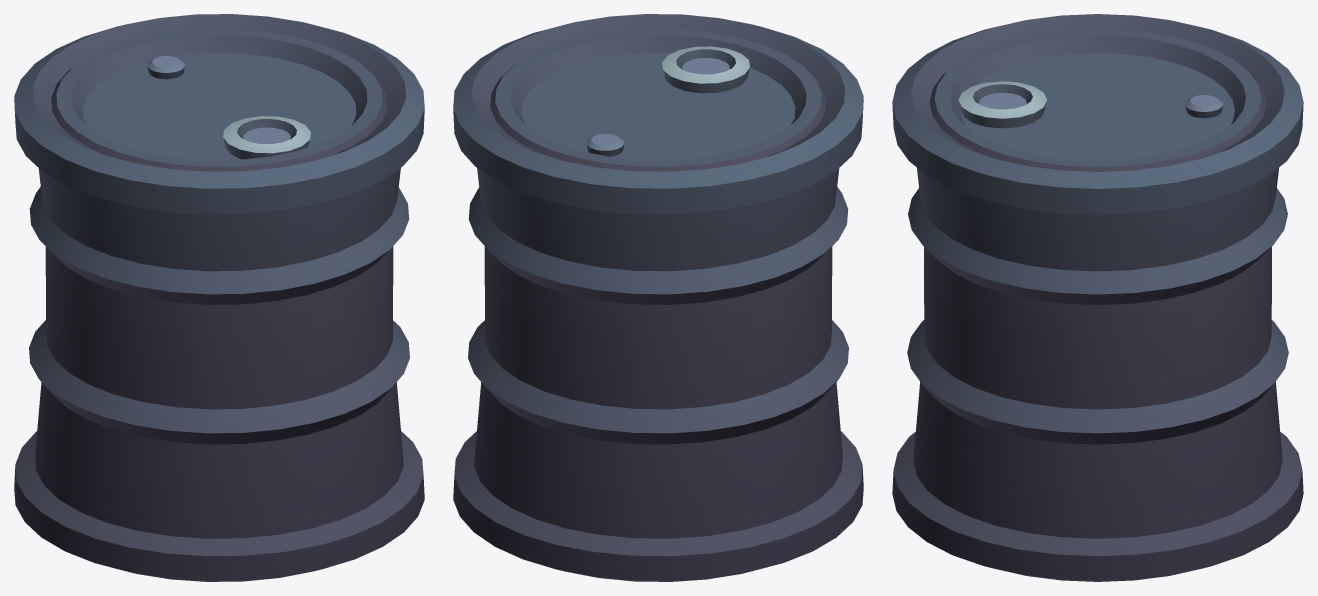
Rendered from fuel_d.fbx.
3 renders of one model, left to right at view 1: azimuth 30°, elevation 25°; view 2: azimuth 150°, elevation 25°; view 3: azimuth 270°, elevation 25°, orthographic.
Parts seen in each view (by area): view 1: fuel_tank4; view 2: fuel_tank4; view 3: fuel_tank4.
Part boxes in pixels (x1,y1,x2,y2): fuel_tank4: (14, 14, 424, 581); fuel_tank4: (453, 14, 863, 581); fuel_tank4: (892, 14, 1303, 581).
Bounding box in the file's own units: 72.79 × 80.08 × 72.79.
